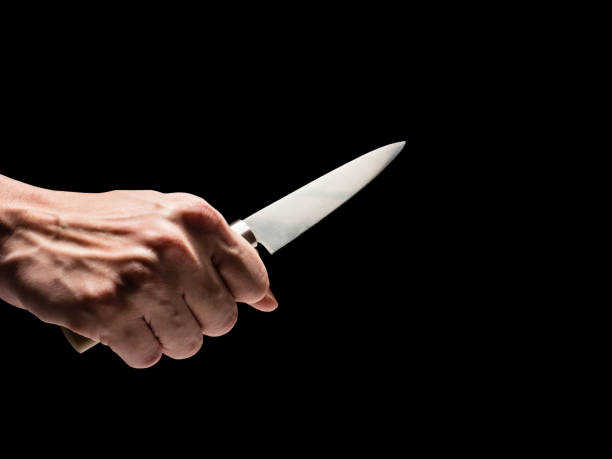knife: (229, 140, 409, 256)
